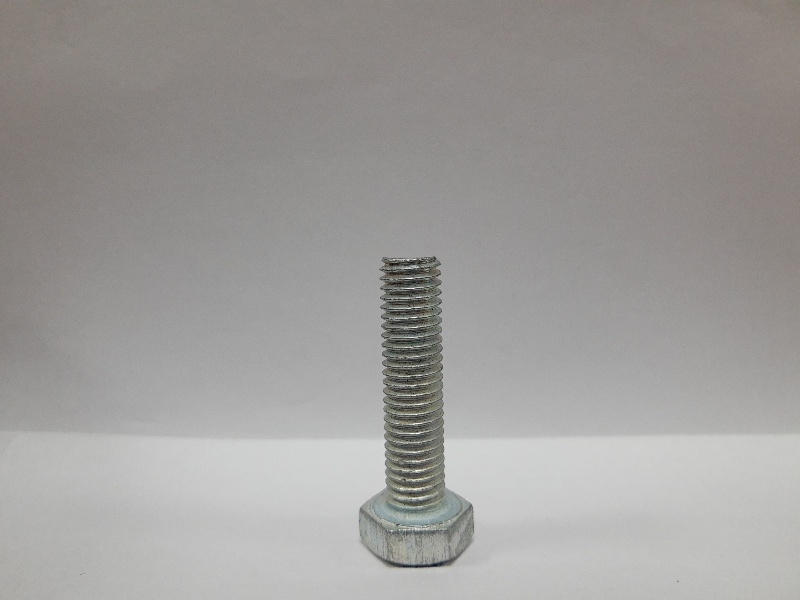pf: (353, 254, 481, 566)
